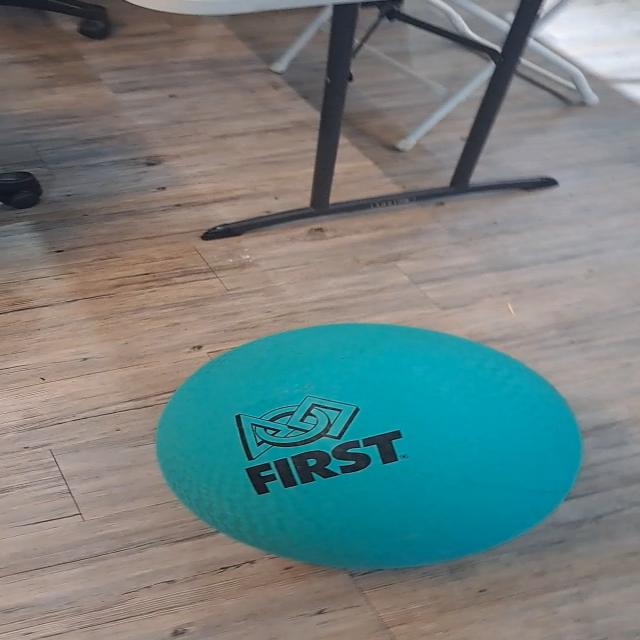ALGAE: (152, 321, 585, 571)
